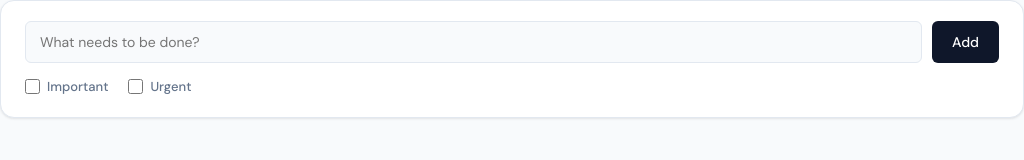
TaskForm quadrant preview › should show Q3 · Delegate when only urgent is checked
This screenshot has width=1024, height=160.
Click the checkbox labelled "Urgent". click: (136, 87)
box: [128, 79, 143, 94]
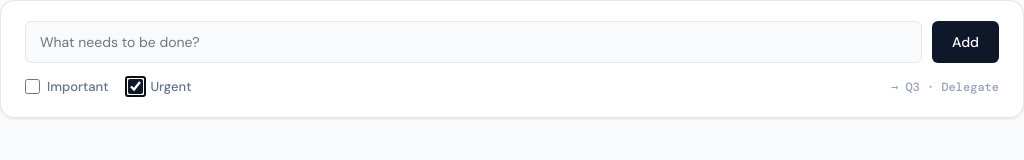
Result: the text "→ Q3 · Delegate" is shown at [891, 78, 999, 96]
